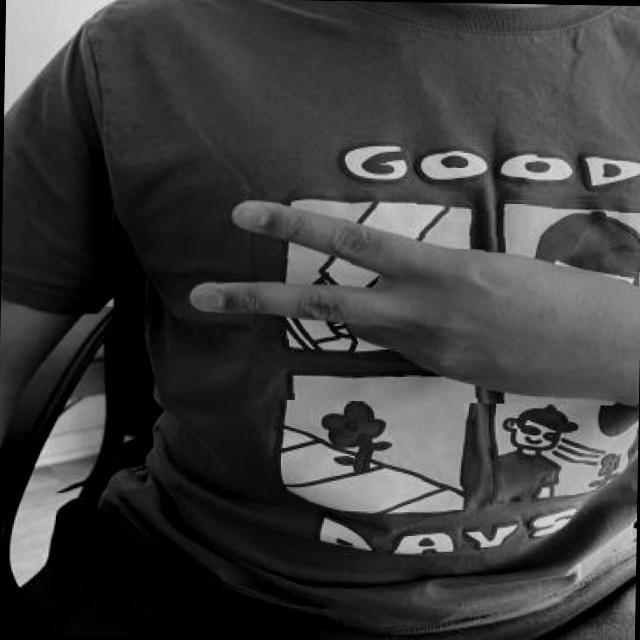H: (175, 187, 640, 407)
